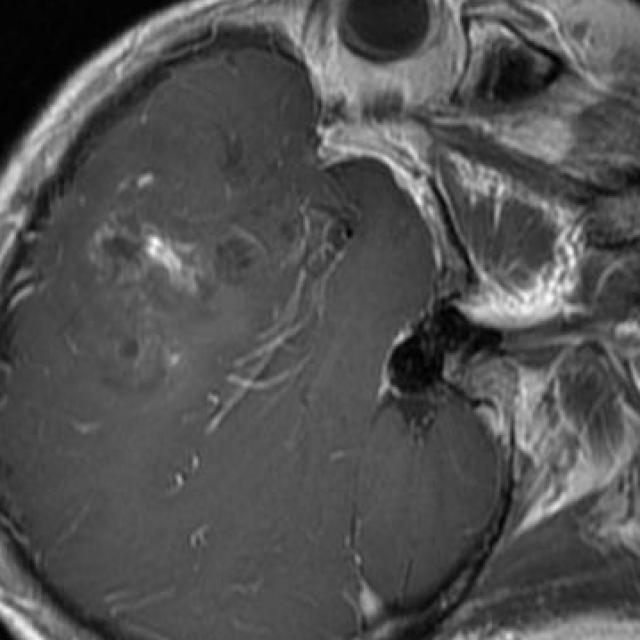glioma: (86, 173, 269, 387)
